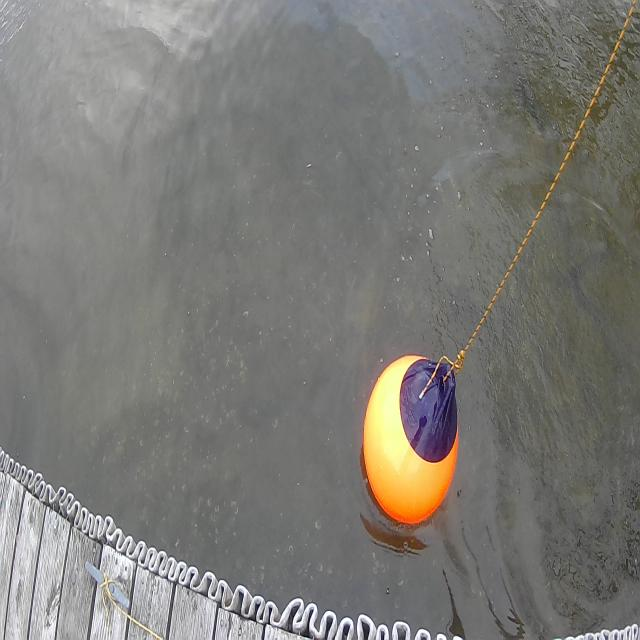Buoy: (360, 342, 466, 538)
